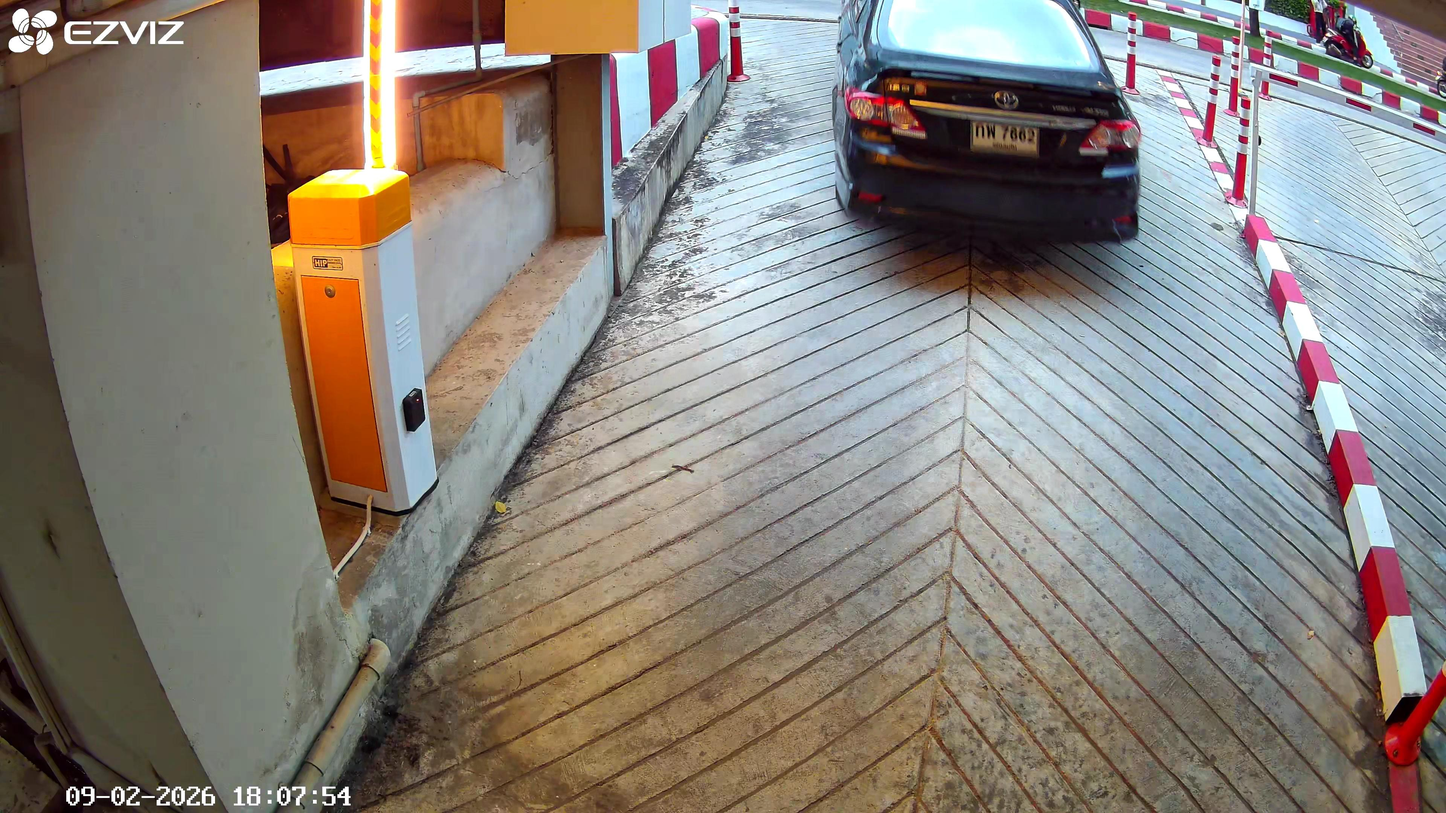car: (833, 2, 1145, 249)
license-plate: (967, 111, 1042, 158)
